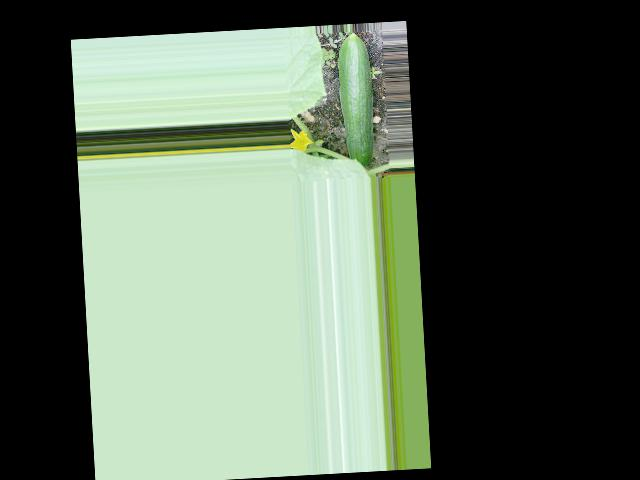cucumber: (336, 31, 377, 167)
